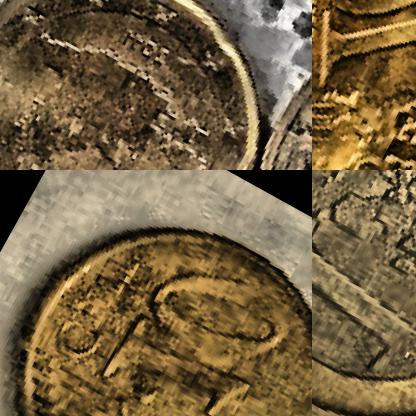coin: (0, 173, 311, 415), (0, 0, 311, 169), (312, 170, 415, 415), (312, 0, 415, 169)
